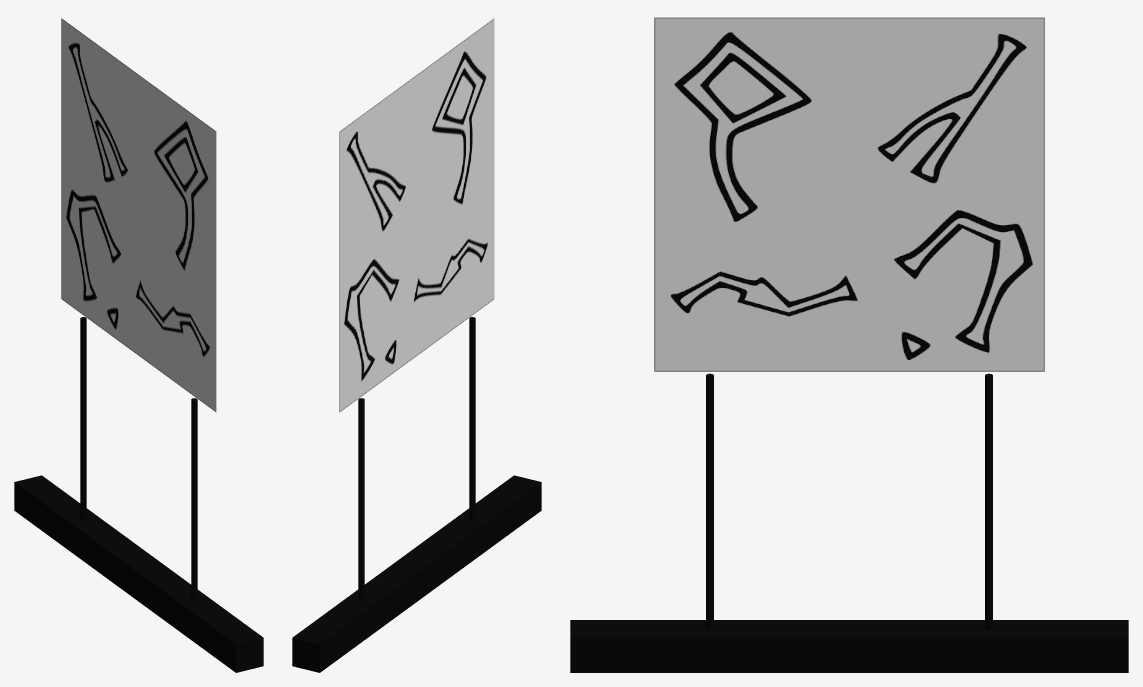
File: buoy1.dae
3 views of the same model, side by side, from view 1: azimuth 30°, elevation 25°; view 2: azimuth 150°, elevation 25°; view 3: azimuth 270°, elevation 25° (orthographic). The views are drawn at different scales.
Parts seen in each view (by area): view 1: 03_StartDialing_01, Cube, Cylinder.001, Cylinder; view 2: 03_StartDialing_01, Cube, Cylinder.001, Cylinder; view 3: 03_StartDialing_01, Cube, Cylinder.001, Cylinder.
Boxes of the visible parts, x1,y1,x2,y2 form: 03_StartDialing_01: (61,18,216,411); Cube: (14,475,263,672); Cylinder.001: (191,398,197,601); Cylinder: (80,317,86,520); 03_StartDialing_01: (339,18,494,412); Cube: (292,475,541,672); Cylinder.001: (469,317,475,520); Cylinder: (358,398,364,601); 03_StartDialing_01: (654,17,1044,371); Cube: (570,620,1128,672); Cylinder.001: (706,373,713,629); Cylinder: (985,373,992,629).
Bounding box in the file's own units: 0.1 × 1.4 × 1.8.
Materials: 4 (1 with a texture image).
